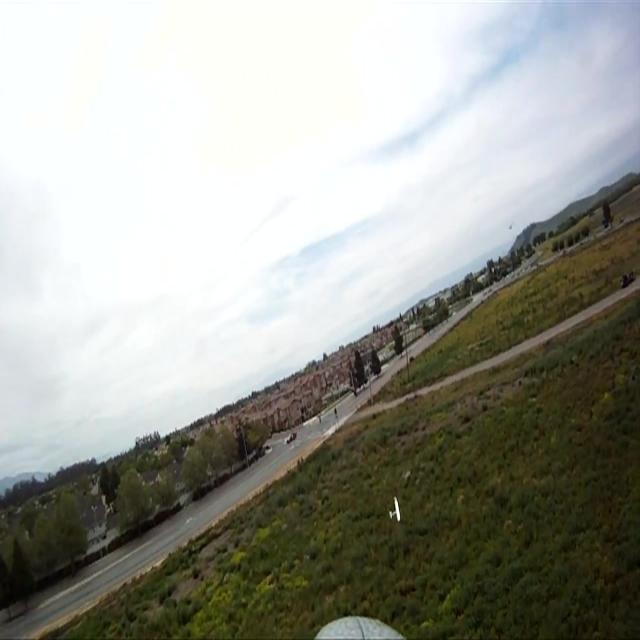iha: (382, 494, 395, 524)
